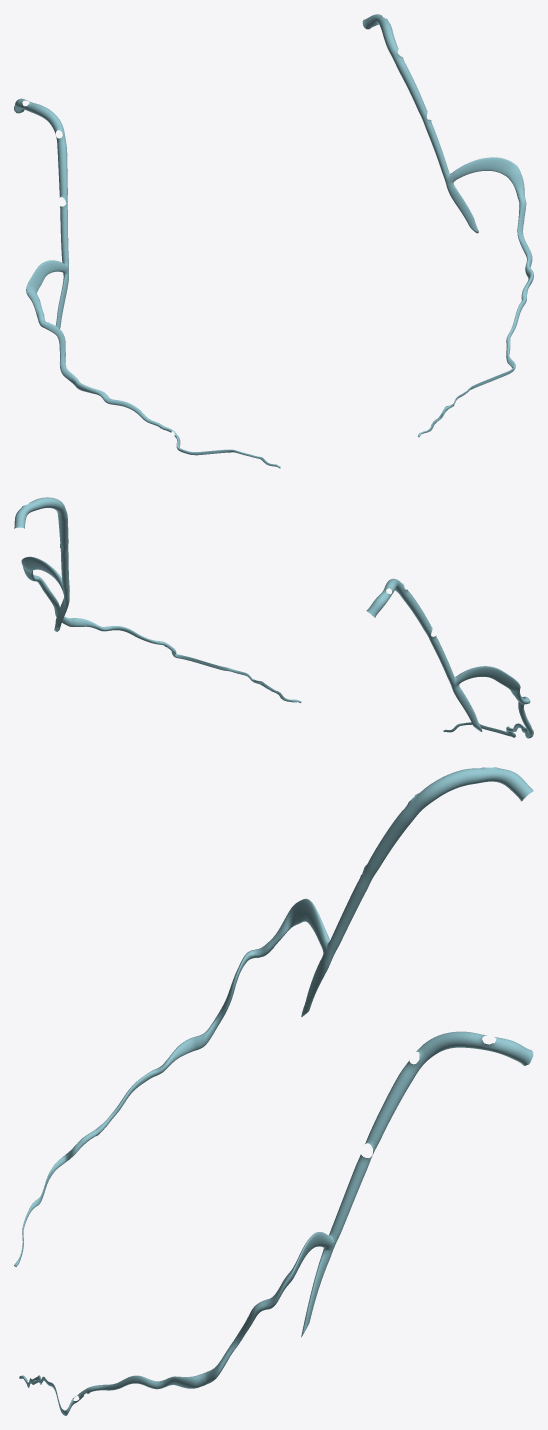
The model's file is central-primary-seed-v0.9.18.glb.
3 views of the same model, one above another, from view 1: azimuth 30°, elevation 25°; view 2: azimuth 150°, elevation 25°; view 3: azimuth 270°, elevation 25° (orthographic). The views are drawn at different scales.
Parts seen in each view (by area): view 1: Central right, Central left, MCA superior division right, MCA superior division left; view 2: Central right, MCA superior division left, MCA superior division right, Central left; view 3: MCA superior division right, MCA superior division left, Central left, Central right.
Part boxes in pixels (x1,y1,x2,y2): Central right: (418, 157, 533, 437); Central left: (26, 260, 280, 468); MCA superior division right: (362, 14, 478, 233); MCA superior division left: (14, 98, 68, 328); Central right: (21, 556, 301, 703); MCA superior division left: (366, 578, 482, 731); MCA superior division right: (14, 497, 69, 631); Central left: (443, 666, 533, 738); MCA superior division right: (301, 1031, 533, 1337); MCA superior division left: (301, 767, 533, 1017); Central left: (14, 898, 329, 1266); Central right: (19, 1232, 334, 1415).
Bounding box in the file's own units: 112 × 61.21 × 66.48.
